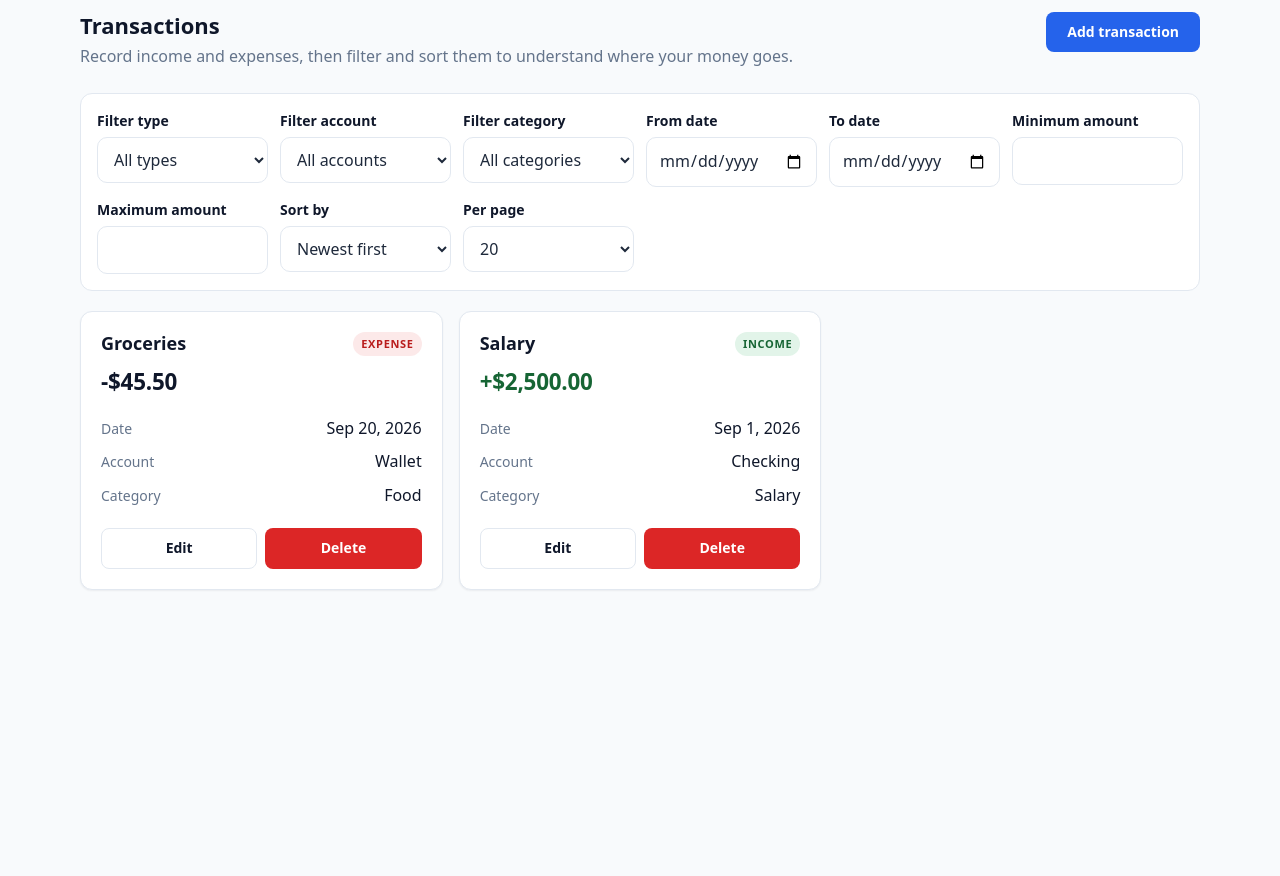
it: TransactionsPage create › shows required field validation and does not submit
Expected: the element "Salary" is shown, [459,311,821,590]
Click the button "Add transaction".
click(1123, 32)  # box [1046,12,1200,52]
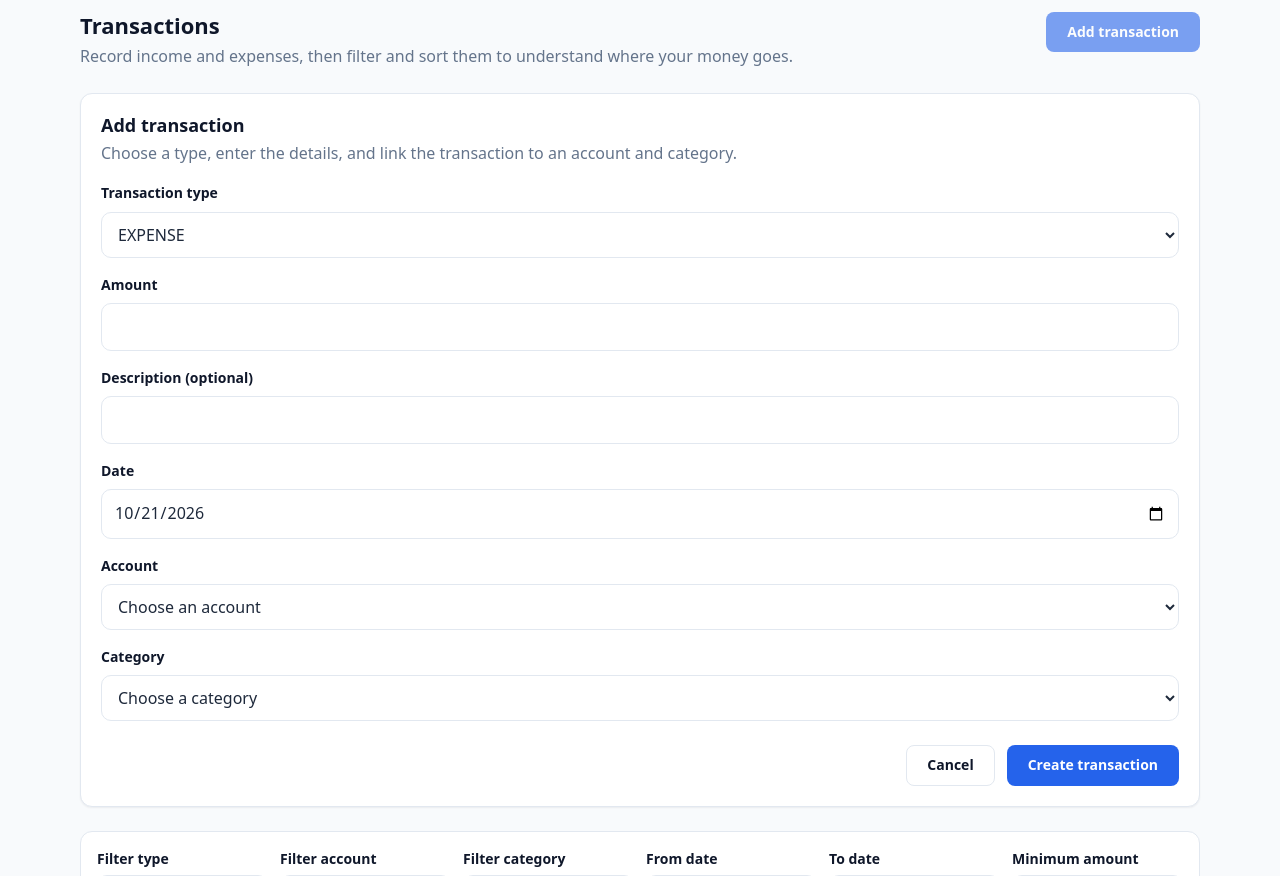
Click the button "Create transaction".
click(1093, 766)  # box [1007,745,1179,786]
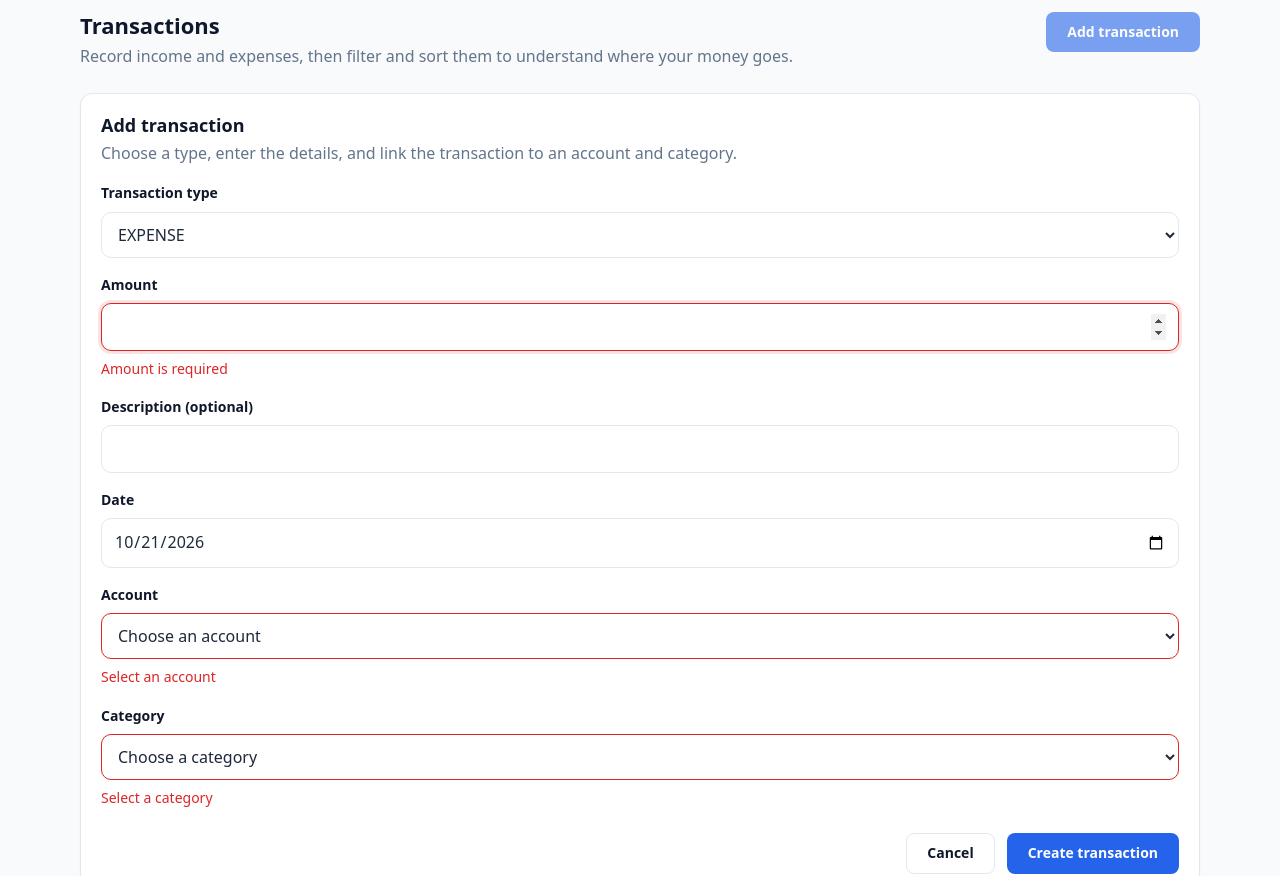
Now the text "Amount is required" is shown, box [101,359,228,378]
Now the text "Select an account" is shown, box [101,667,216,686]
Now the text "Select a category" is shown, box [101,788,212,807]
